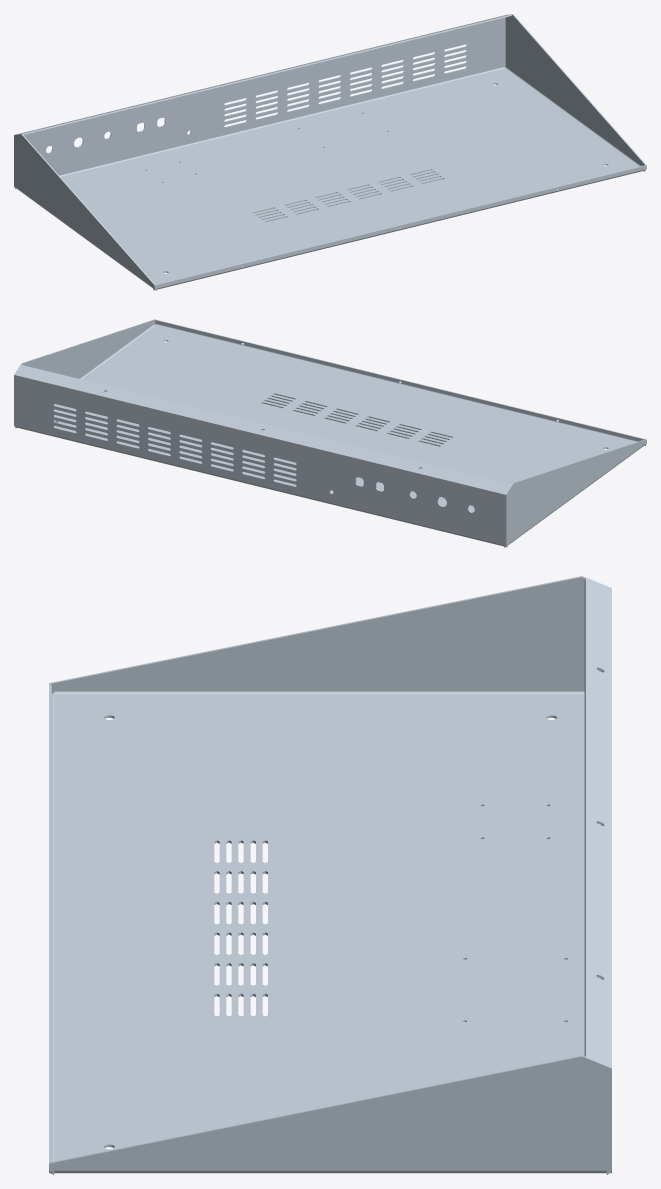
The picture shows the model from 3 angles, top to bottom: view 1: azimuth 30°, elevation 25°; view 2: azimuth 150°, elevation 25°; view 3: azimuth 270°, elevation 25°; orthographic projection. The views are drawn at different scales.
Parts seen in each view (by area): view 1: base; view 2: base; view 3: base.
Part boxes in pixels (x1=…): base: x1=14, y1=14, x2=646, y2=290; base: x1=14, y1=319, x2=646, y2=547; base: x1=49, y1=576, x2=611, y2=1174.
Bounding box in the file's own units: 846 × 97.34 × 419.
